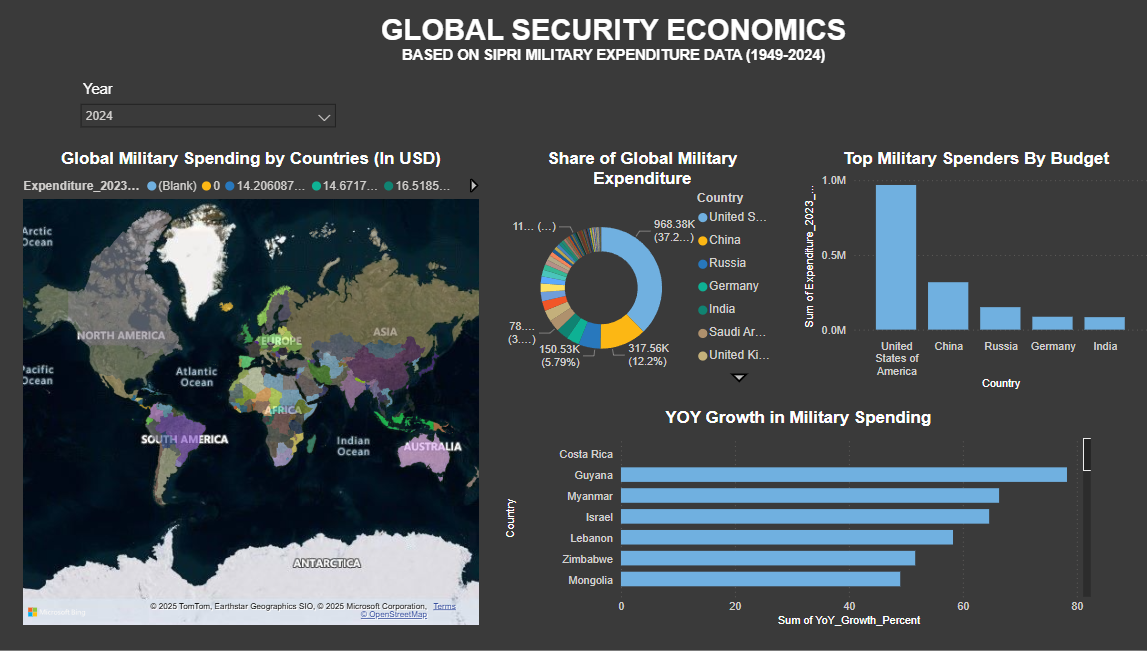

The dashboard page shown, as its layout file describes it:
{"tool":"powerbi","page":{"name":"Page 1","canvas":[1280,720],"ordinal":0},"visuals":[{"type":"filledMap","title":"Global Military Spending by Countries (In USD) ","fields":{"Category":["Sheet1.Country"],"Series":["Sheet1.Expenditure_2023_USD"]},"box":[37.3,169.4,509.8,528.4],"z":0},{"type":"slicer","fields":{"Values":["Sheet1.Year"]},"box":[94.1,89.2,300.2,79.5],"z":1000},{"type":"donutChart","title":"Share of Global Military Expenditure","fields":{"Category":["Sheet1.Country"],"Y":["Sum(Sheet1.Expenditure_2023_USD)"]},"box":[567.3,169.4,309.9,264.2],"z":2000},{"type":"barChart","title":"YOY Growth in Military Spending","fields":{"Category":["Sheet1.Country"],"Y":["Sum(Sheet1.YoY_Growth_Percent)"]},"box":[567.3,452.2,652,245.6],"z":3000},{"type":"columnChart","title":"Top Military Spenders By Budget","fields":{"Category":["Sheet1.Country"],"Y":["Sum(Sheet1.Expenditure_2023_USD)"]},"box":[894.1,168.8,386.2,269.4],"z":3001},{"type":"textbox","box":[379.7,0,619.9,89.2],"z":3002}]}

Visuals, with their boxes in screenshot pixels (x1, y1, x2, y2), scaled from the page's 1280x720 canvas onto the 1147x651 screenshot:
"Global Military Spending by Countries (In USD) " filledMap: [33, 153, 490, 631]
slicer - Sheet1.Year: [84, 81, 353, 153]
"Share of Global Military Expenditure" donutChart: [508, 153, 786, 392]
"YOY Growth in Military Spending" barChart: [508, 409, 1093, 631]
"Top Military Spenders By Budget" columnChart: [801, 153, 1146, 396]
textbox: [340, 0, 896, 81]
